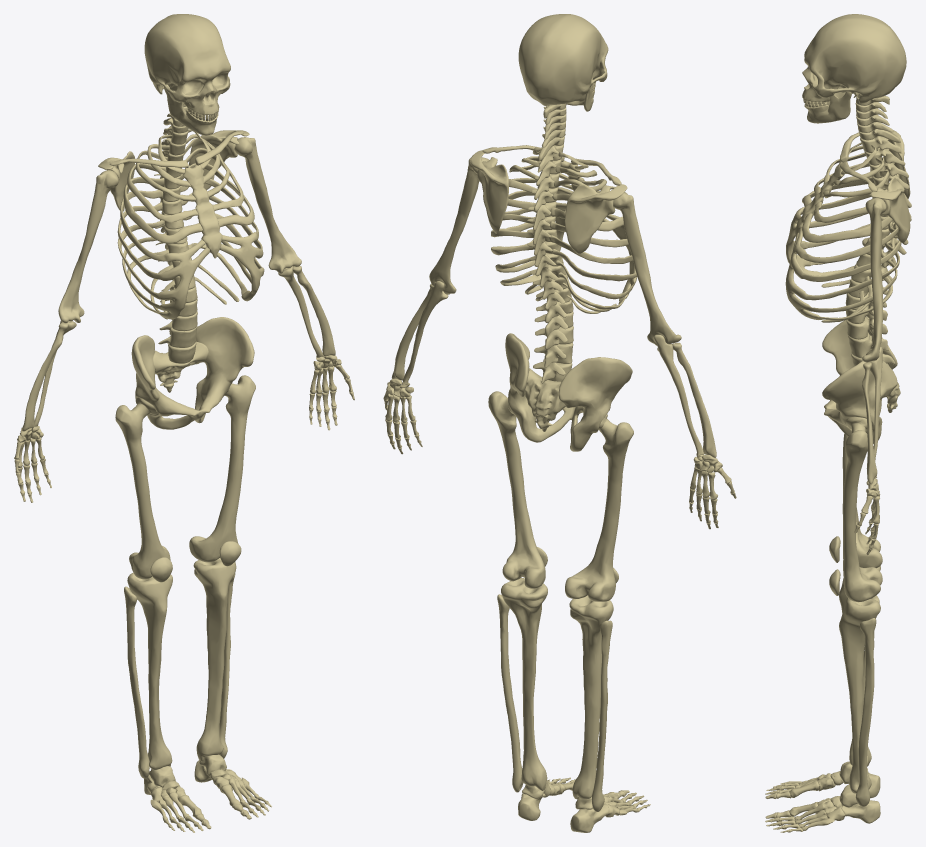
File: huesos.glb
3 renders of one model, left to right at view 1: azimuth 30°, elevation 25°; view 2: azimuth 150°, elevation 25°; view 3: azimuth 270°, elevation 25°, orthographic. The views are drawn at different scales.
Parts seen in each view (by area): view 1: Craneo, Pelvis, TibiaL, ConjuntoCostillaD, FemurL, TibiaD, FemurD, ConjuntoCostillaL, HumeroL, HumeroD, Toracica, Lumbar (+13 smaller); view 2: Craneo, Pelvis, FemurD, TibiaD, FemurL, TibiaL, Toracica, ConjuntoCostillaD, EscapulaD, Lumbar, HumeroD, ConjuntoCostillaL (+11 smaller); view 3: Craneo, Pelvis, ConjuntoCostillaL, FemurL, TibiaL, Toracica, HumeroL, FibulaL, Lumbar, ConjuntoCostillaD, Cervical, EscapulaL (+13 smaller).
Part boxes in pixels (x1,y1,x2,y2): Craneo: (144, 14, 230, 115); Pelvis: (131, 317, 254, 429); TibiaL: (193, 558, 236, 761); ConjuntoCostillaD: (117, 189, 209, 319); FemurL: (189, 375, 255, 562); TibiaD: (127, 572, 172, 769); FemurD: (115, 397, 170, 579); ConjuntoCostillaL: (180, 176, 264, 301); HumeroL: (234, 137, 301, 273); HumeroD: (58, 170, 118, 323); Toracica: (154, 126, 195, 289); Lumbar: (158, 285, 197, 363); Craneo: (518, 14, 608, 105); Pelvis: (505, 333, 632, 451); FemurD: (565, 414, 633, 601); TibiaD: (569, 595, 613, 799); FemurL: (488, 391, 545, 588); TibiaL: (501, 578, 547, 790); Toracica: (527, 144, 571, 310); ConjuntoCostillaD: (549, 214, 637, 309); EscapulaD: (564, 184, 627, 253); Lumbar: (533, 300, 573, 383); HumeroD: (613, 192, 681, 345); ConjuntoCostillaL: (491, 202, 566, 285); Craneo: (802, 14, 906, 103); Pelvis: (822, 316, 897, 443); ConjuntoCostillaL: (785, 221, 901, 320); FemurL: (842, 417, 882, 602); TibiaL: (839, 595, 880, 793); Toracica: (848, 136, 911, 297); HumeroL: (862, 198, 886, 362); FibulaL: (855, 618, 876, 806); Lumbar: (845, 292, 895, 366); ConjuntoCostillaD: (786, 193, 897, 281); Cervical: (855, 96, 900, 142); EscapulaL: (869, 177, 910, 242).
Bounding box in the file's own units: 7.24 × 15.89 × 2.68.
